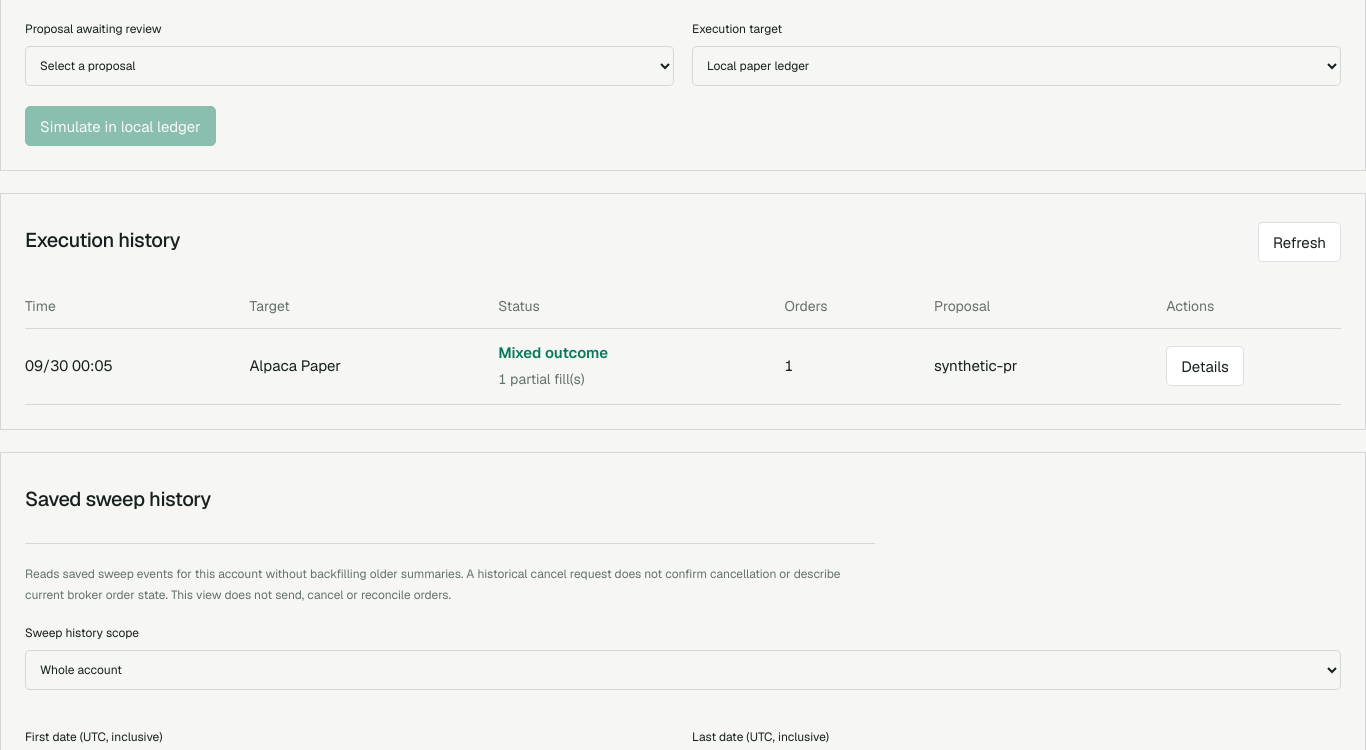
Test: Trading agent tab › shows limit prices per order and terminal partial fills on expired limit orders
(page scrolled)
Expected: the text "1 partial fill(s)" is shown, 498,370 -> 585,388
Click the button "Details" at [1205, 366], box 1166,346 -> 1244,386
(page scrolled)
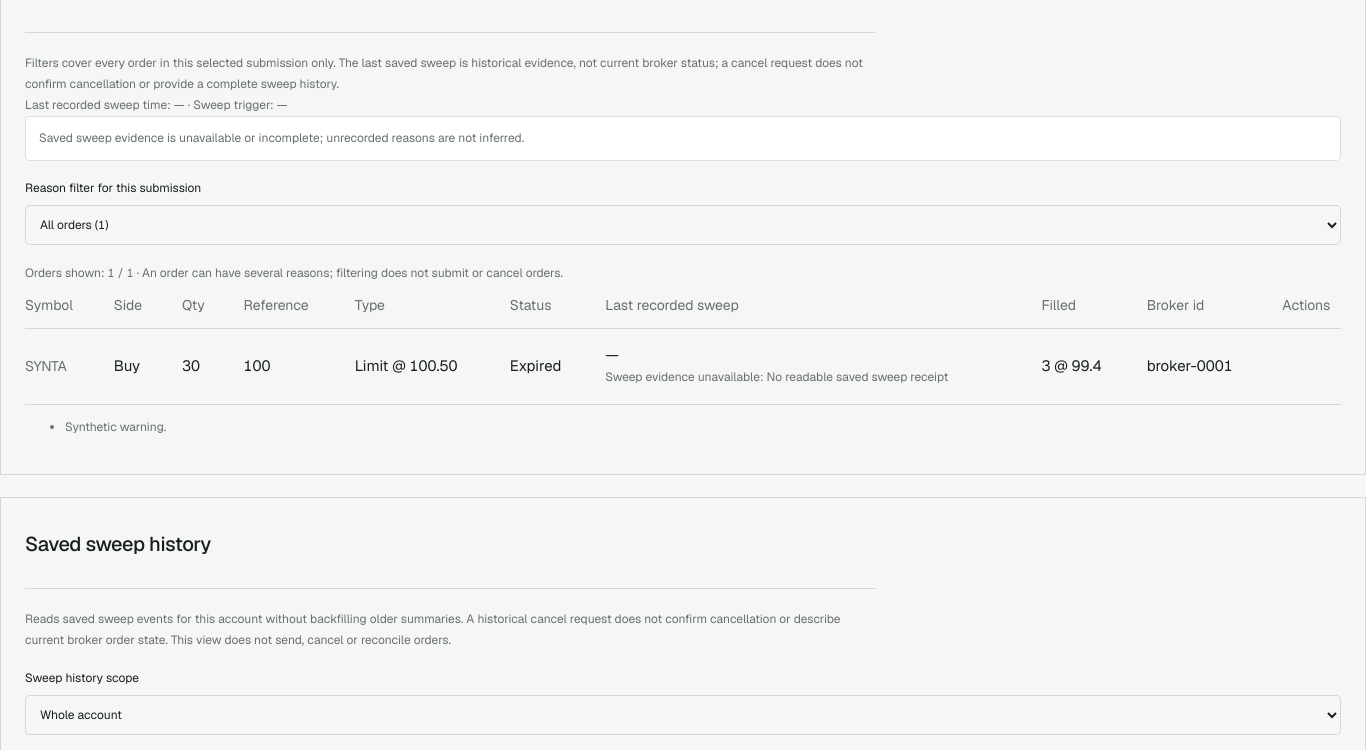
Expected: the text "Limit @ 100.50" is shown, 340,328 -> 495,404
Expected: the text "3 @ 99.4" is shown, 1026,328 -> 1132,404
